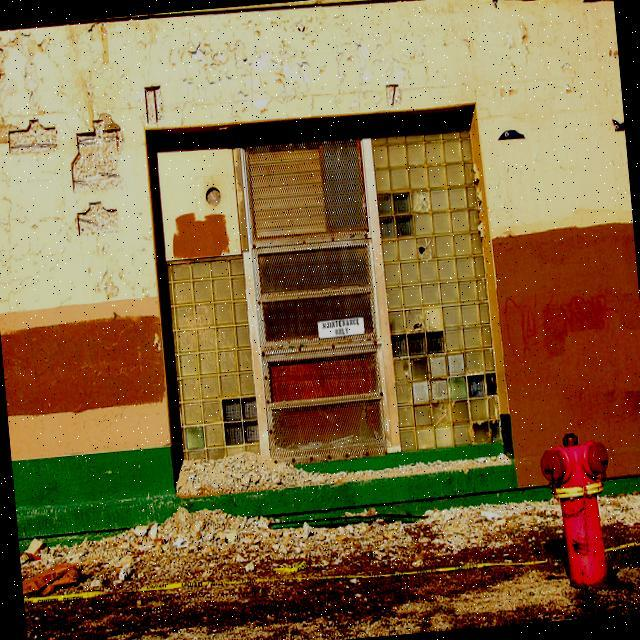fire_hydrant: (536, 427, 614, 596)
